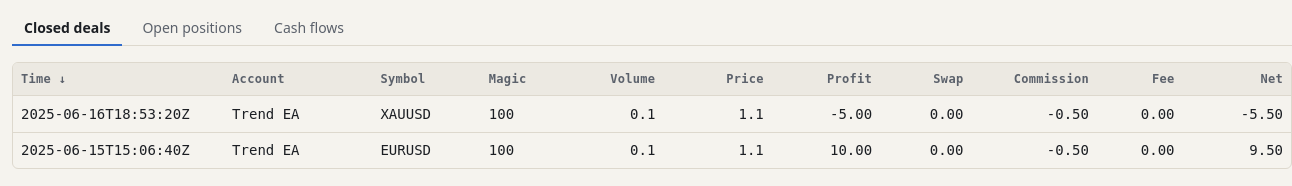
Test: empty open positions tab says so
Click the tab "Open positions" at (192, 29), box [130,12,254,46]
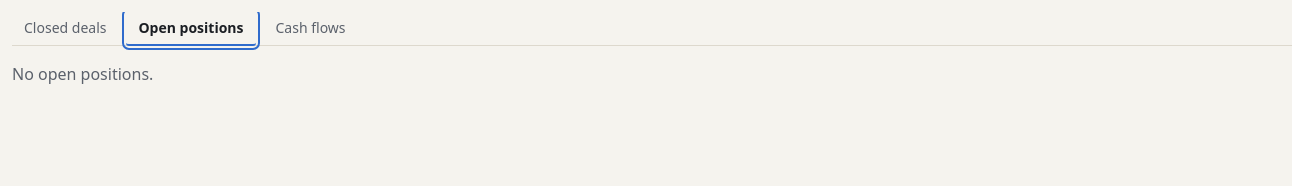
Now the text "No open positions." is shown, box [12,63,153,85]
